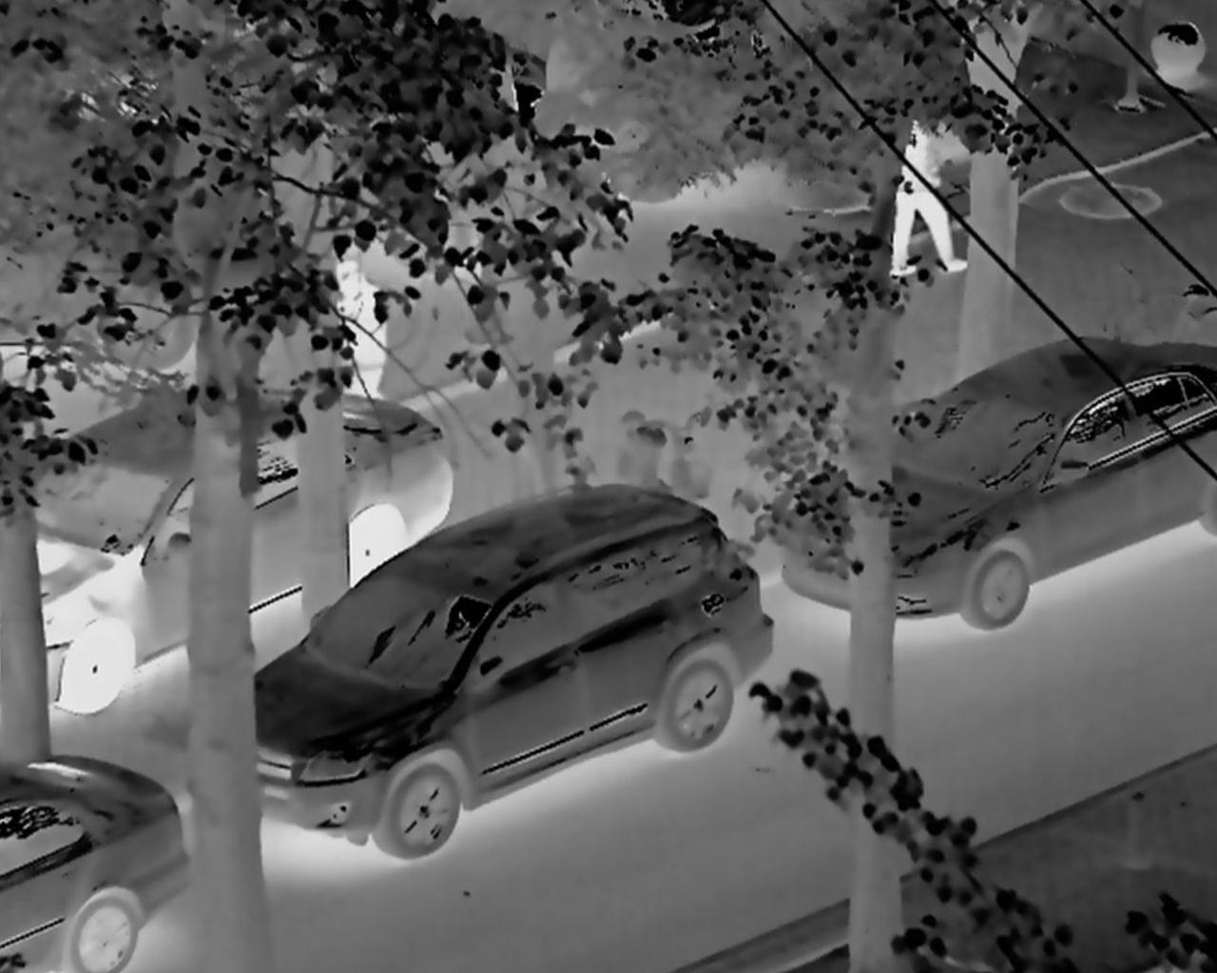person: (874, 79, 969, 290), (315, 245, 385, 420)
